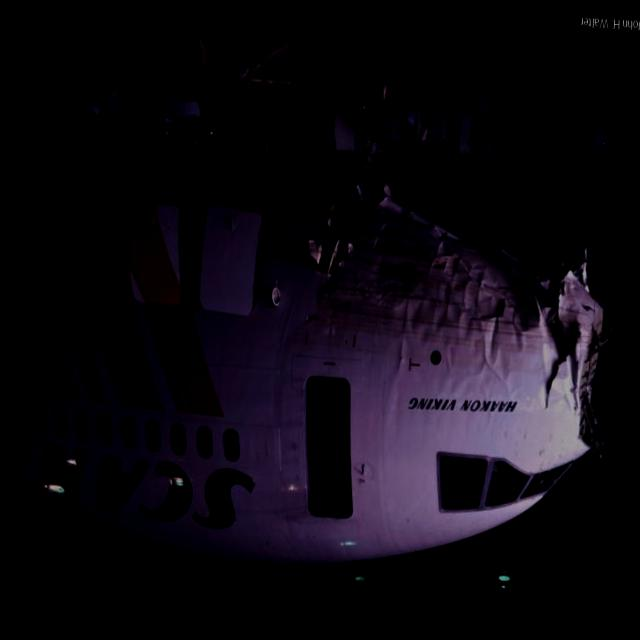crack: (532, 256, 614, 457), (302, 182, 373, 280)
dent: (349, 204, 524, 372)
